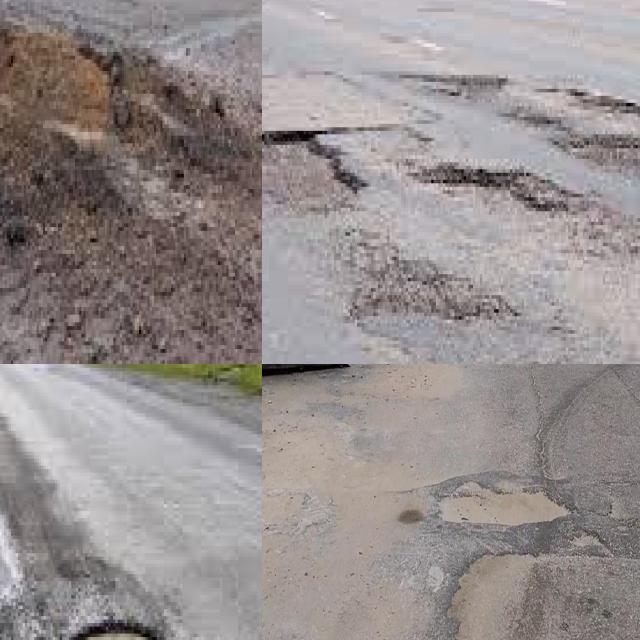Pothole: (0, 28, 262, 364), (515, 92, 640, 182), (416, 166, 601, 211), (262, 129, 366, 201), (439, 481, 564, 529)
